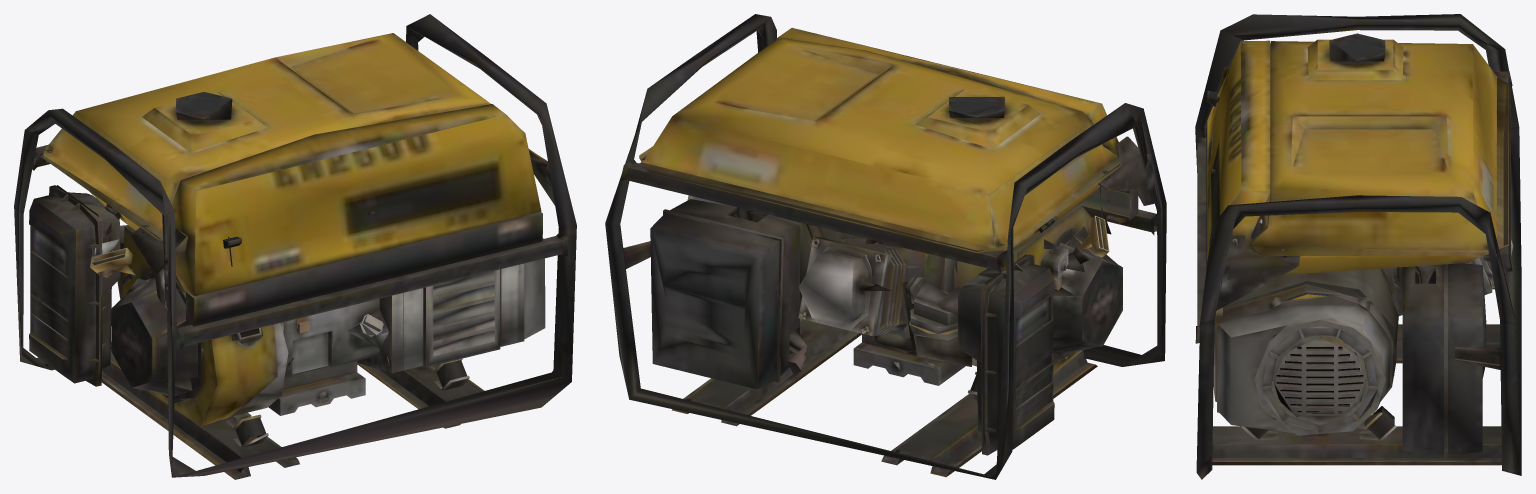
The model's file is generator_lo.glb.
3 renders of one model, left to right at view 1: azimuth 30°, elevation 25°; view 2: azimuth 150°, elevation 25°; view 3: azimuth 270°, elevation 25°, orthographic.
Parts seen in each view (by area): view 1: portable_generator; view 2: portable_generator; view 3: portable_generator.
Boxes of the visible parts, x1,y1,x2,y2 form: portable_generator: [14, 14, 576, 479]; portable_generator: [605, 14, 1166, 479]; portable_generator: [1195, 14, 1521, 479].
Size of the model in its own units: 0.8146 by 0.5752 by 0.5549.
2 materials, 2 textured.
